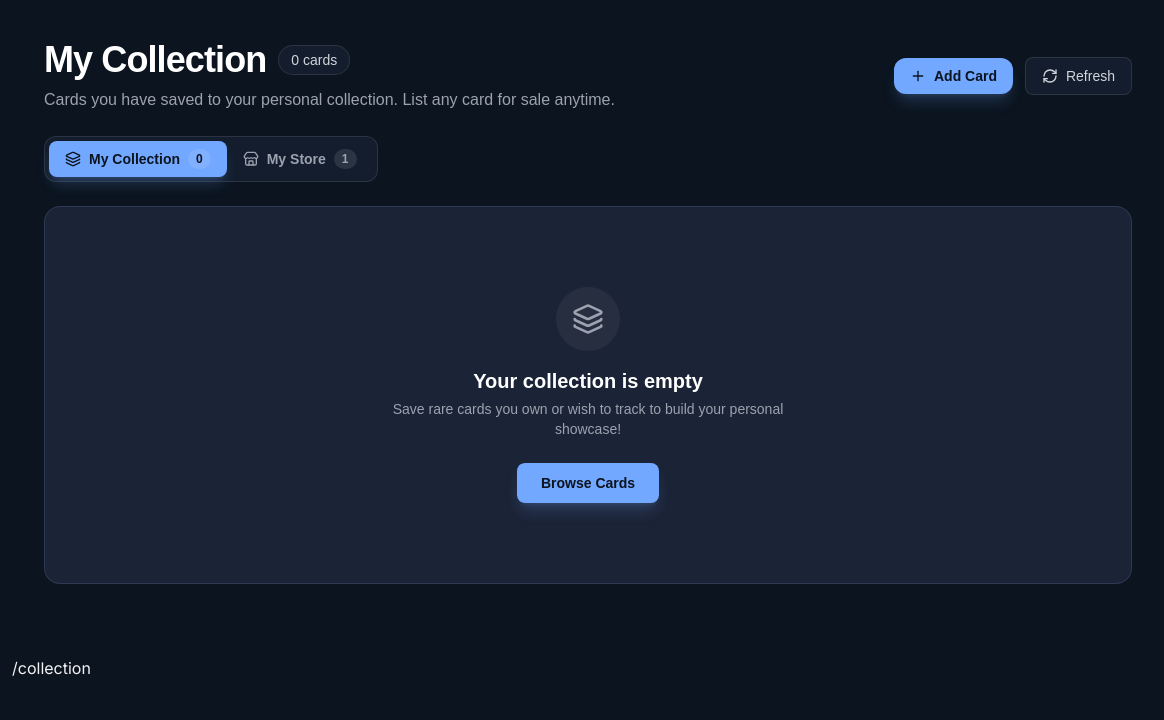
Test: MyCollectionPage seller collection/store toggle › lets sellers switch to My Store through the query view state and loads available listings
The width and height of the screenshot is (1164, 720).
Expected: the heading "My Collection" is shown, [44,40,266,80]
Click the tab "My Store 1": (300, 159) [227,141,372,177]
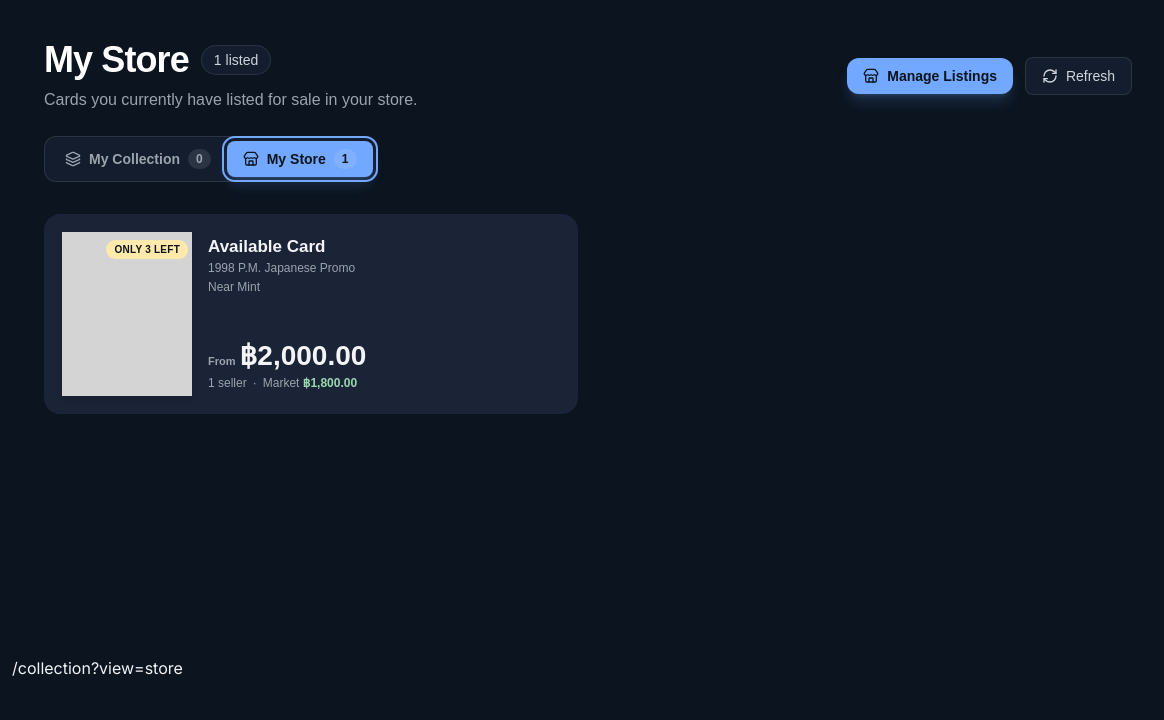
Expected: the heading "My Store" is shown, [44,40,189,80]
Expected: the text with test id "location" reads "/collection?view=store", [12,658,183,678]
Expected: the heading "Available Card" is shown, [208,237,326,256]
